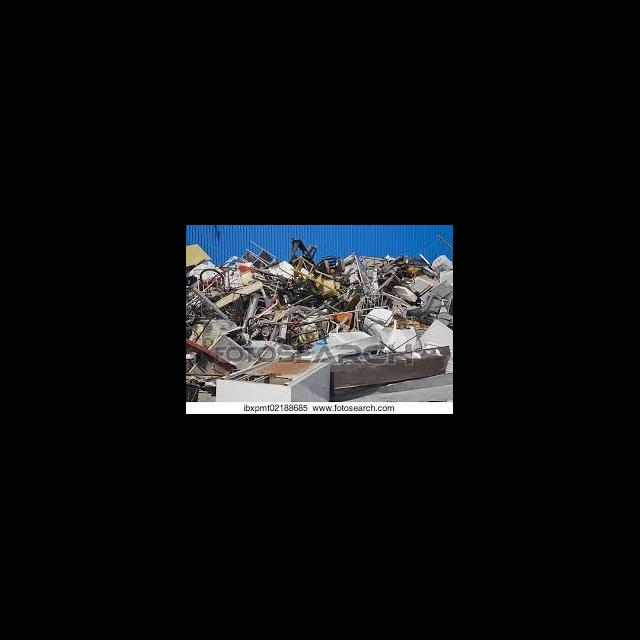metal: (286, 254, 342, 298), (240, 238, 280, 272)
